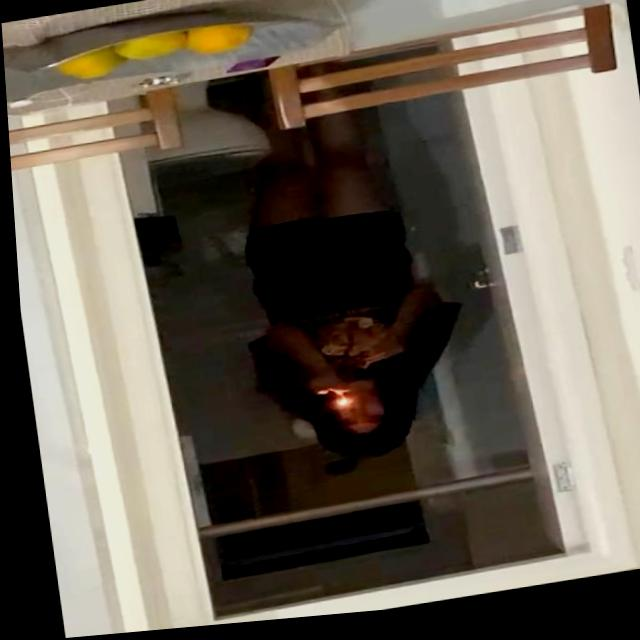Fire: (327, 395, 346, 417)
